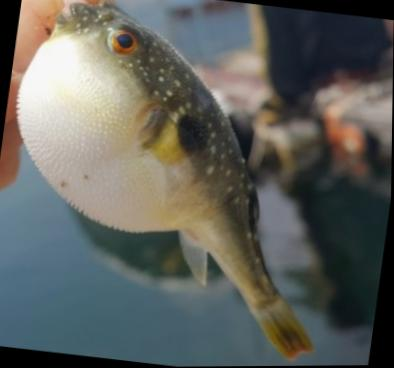fish: (17, 0, 311, 358)
